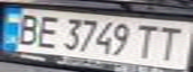3: (57, 16, 84, 52)
4: (93, 19, 115, 55)
7: (75, 17, 96, 54)
9: (109, 20, 136, 57)
B: (9, 10, 45, 46)
E: (30, 12, 63, 50)
T: (151, 24, 190, 63), (130, 21, 163, 61)
